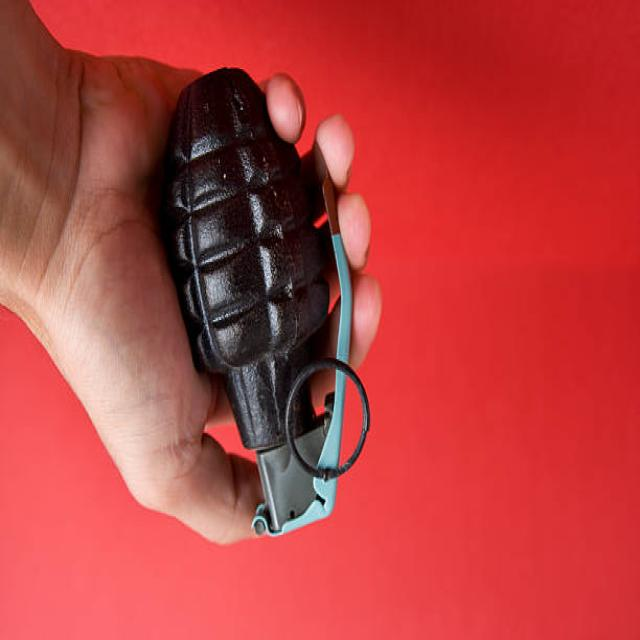grenade: (152, 61, 371, 546)
